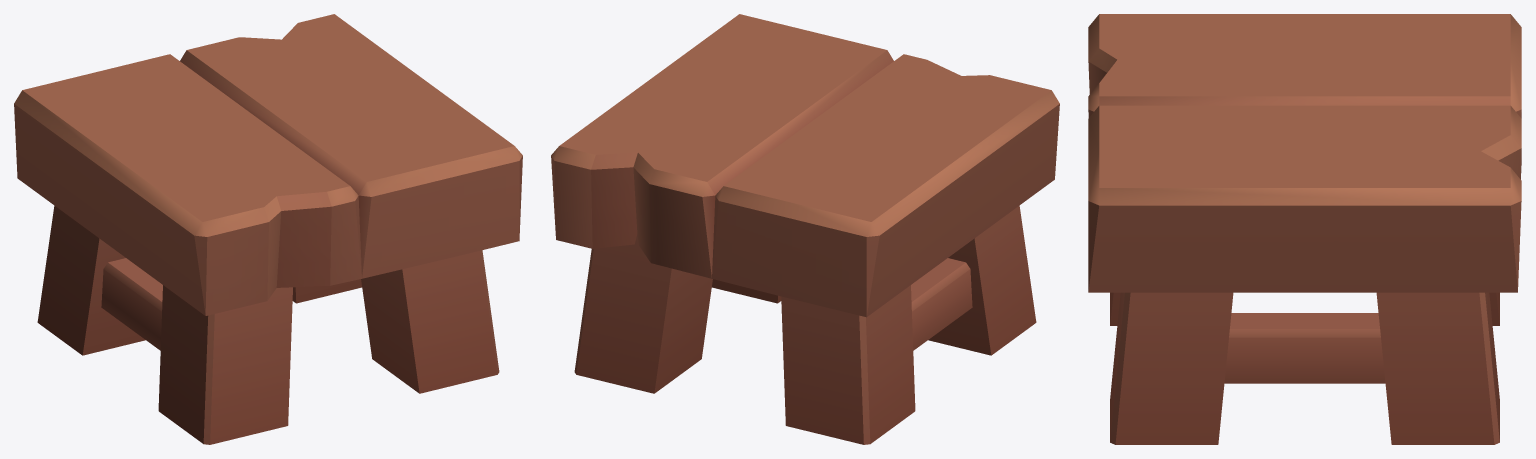
File: prop_stool.glb
3 renders of one model, left to right at view 1: azimuth 30°, elevation 25°; view 2: azimuth 150°, elevation 25°; view 3: azimuth 270°, elevation 25°, orthographic. The views are drawn at different scales.
Visible parts, largest first — view 1: stool; view 2: stool; view 3: stool.
Boxes of the visible parts, x1,y1,x2,y2 form: stool: (14, 14, 522, 444); stool: (551, 14, 1059, 444); stool: (1088, 14, 1521, 444).
Bounding box in the file's own units: 0.75 × 0.5 × 0.75.
1 material, 1 textured.
